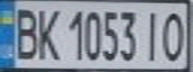0: (81, 6, 103, 61)
1: (63, 6, 84, 61)
3: (118, 7, 142, 62)
5: (100, 7, 121, 61)
B: (9, 3, 42, 61)
I: (139, 7, 169, 61)
K: (33, 5, 63, 62)
O: (157, 7, 190, 62)
